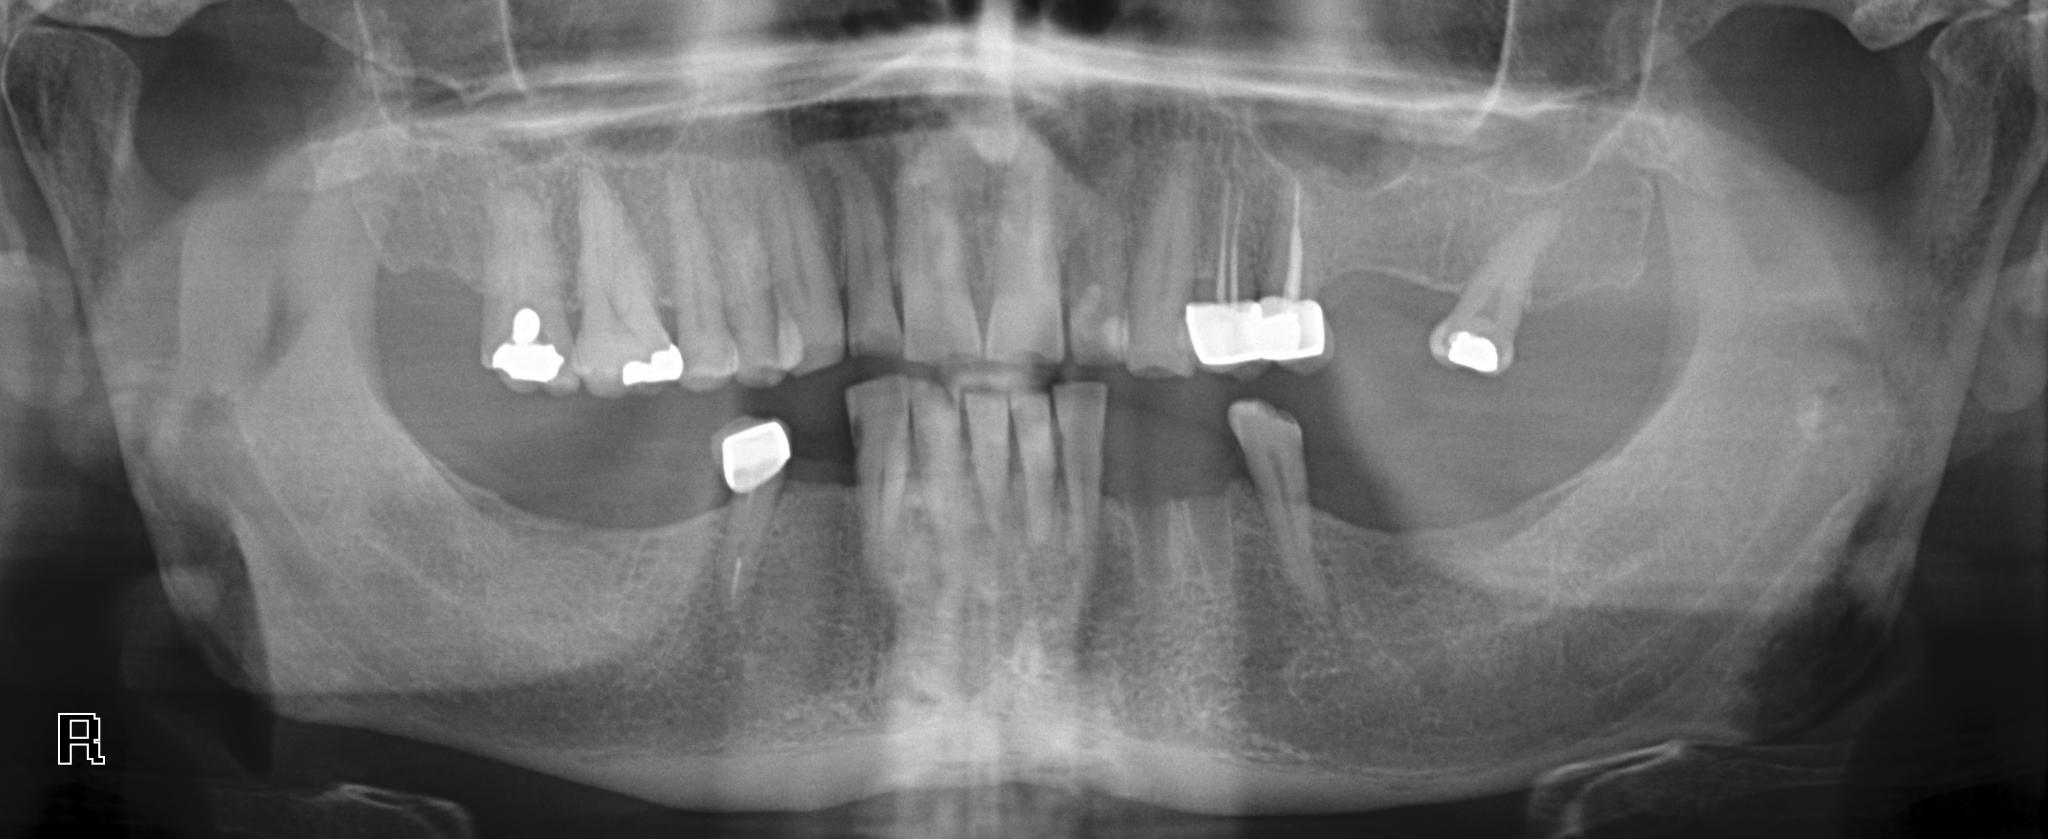Fillings: (569, 180, 686, 399), (464, 180, 576, 399), (1425, 196, 1545, 379), (712, 413, 793, 618)
Implant: (1253, 171, 1337, 374)
